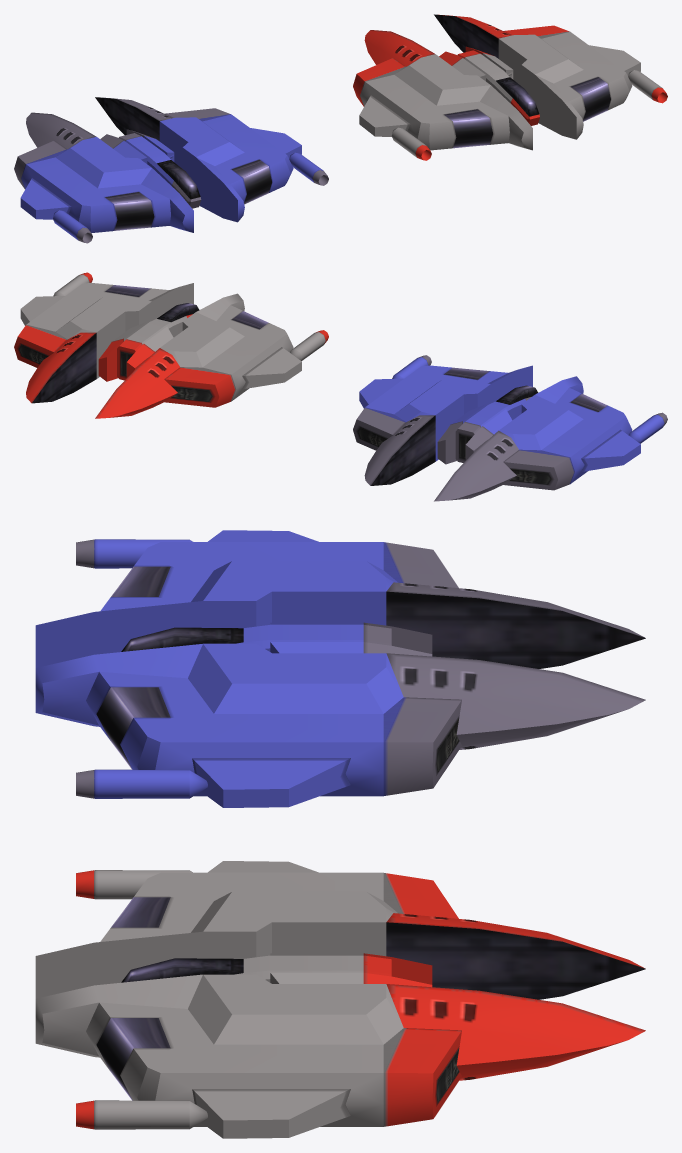
The model's file is M04_ZAKO-03_T_type.fbx.
3 renders of one model, top to bottom at view 1: azimuth 30°, elevation 25°; view 2: azimuth 150°, elevation 25°; view 3: azimuth 270°, elevation 25°, orthographic. The views are drawn at different scales.
Parts seen in each view (by area): view 1: body (×2); view 2: body (×2); view 3: body (×2).
Part boxes in pixels (left/top/right/bottom): body (×2): left=14, top=14, right=667, bottom=243; body (×2): left=14, top=272, right=667, bottom=501; body (×2): left=35, top=530, right=645, bottom=1138.
Size of the model in its own units: 14.15 by 1.05 by 6.19.
